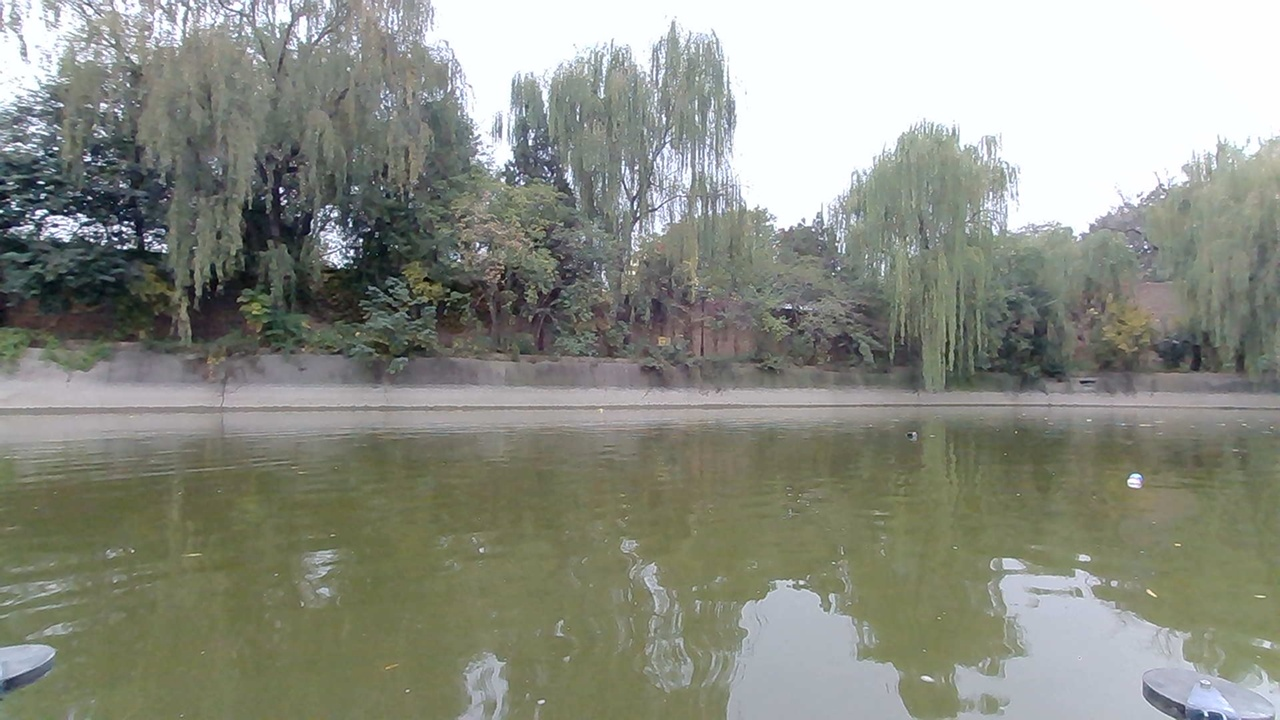bottle: (1113, 467, 1152, 496), (896, 422, 924, 448)
